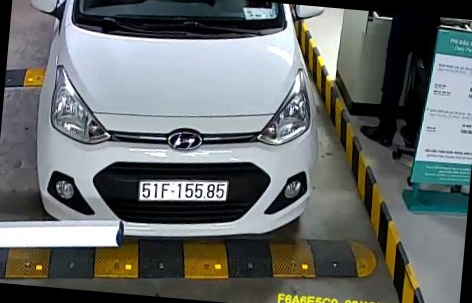plate: (135, 176, 230, 206)
